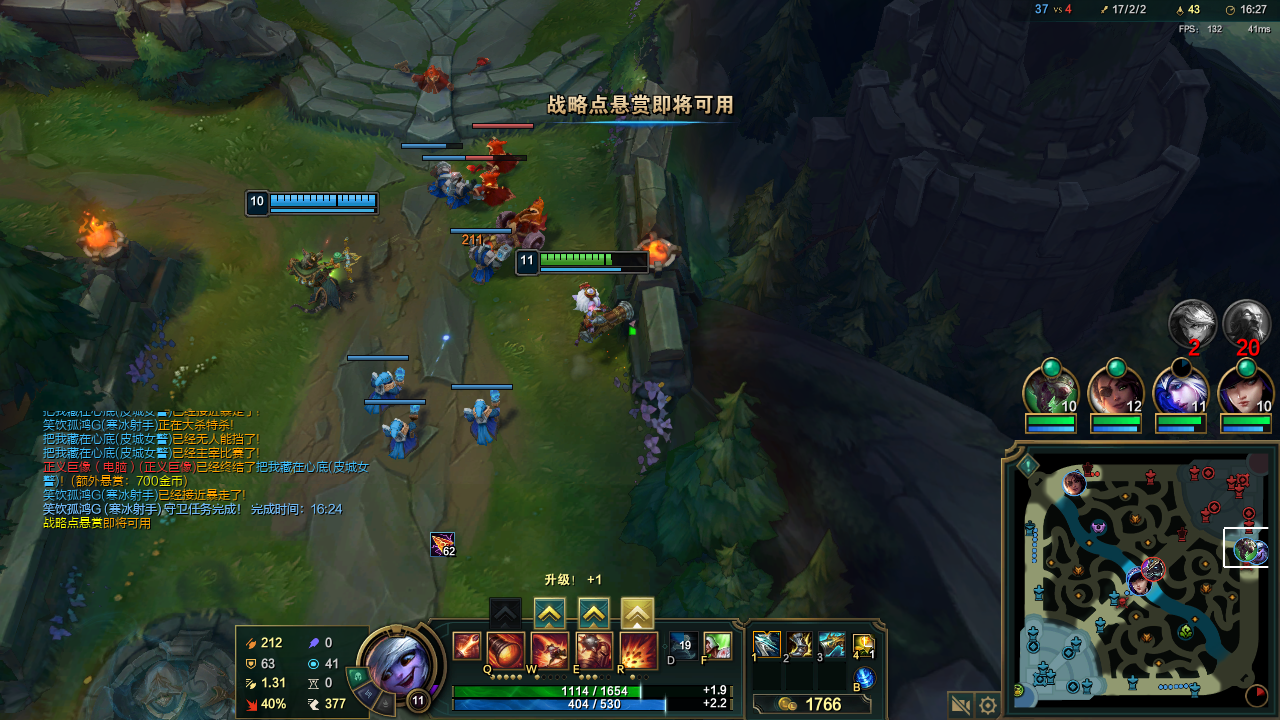DFXB: (486, 200, 559, 258), (466, 164, 517, 209), (477, 137, 517, 176)
Tuijianshengji: (622, 596, 662, 626)
WFXB: (452, 384, 518, 448), (460, 230, 523, 297), (379, 395, 425, 460), (359, 366, 409, 413), (436, 169, 482, 212), (421, 161, 462, 193)
